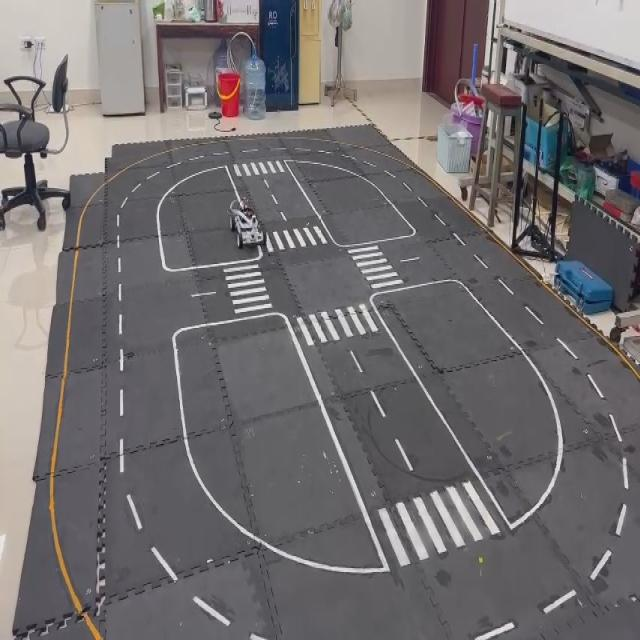SiCo-CAR: (227, 195, 264, 249)
